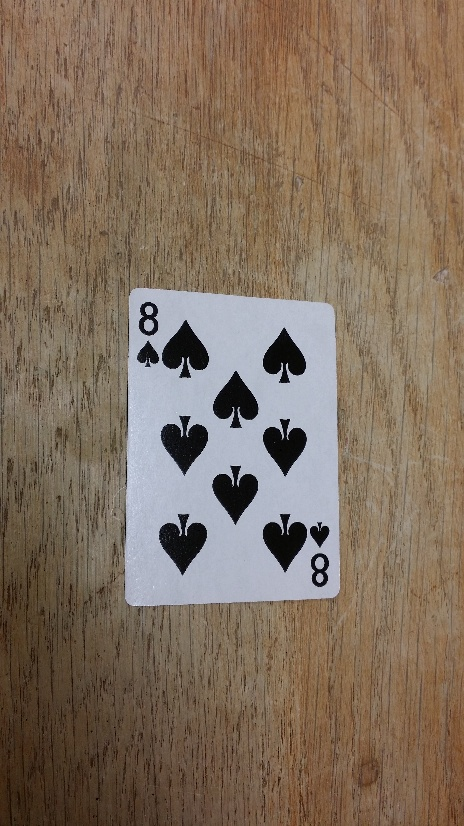S8: (132, 294, 163, 370), (307, 515, 335, 594)
